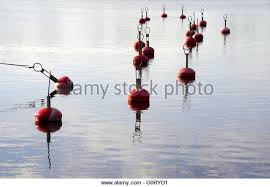buoy: (36, 108, 62, 123), (57, 76, 74, 94), (128, 90, 149, 102), (178, 68, 195, 81), (132, 54, 148, 66), (142, 46, 154, 57), (185, 34, 196, 45), (135, 42, 145, 50), (221, 28, 230, 34), (161, 12, 167, 19), (200, 21, 206, 28), (138, 18, 145, 23), (179, 15, 187, 19), (143, 16, 150, 20)
